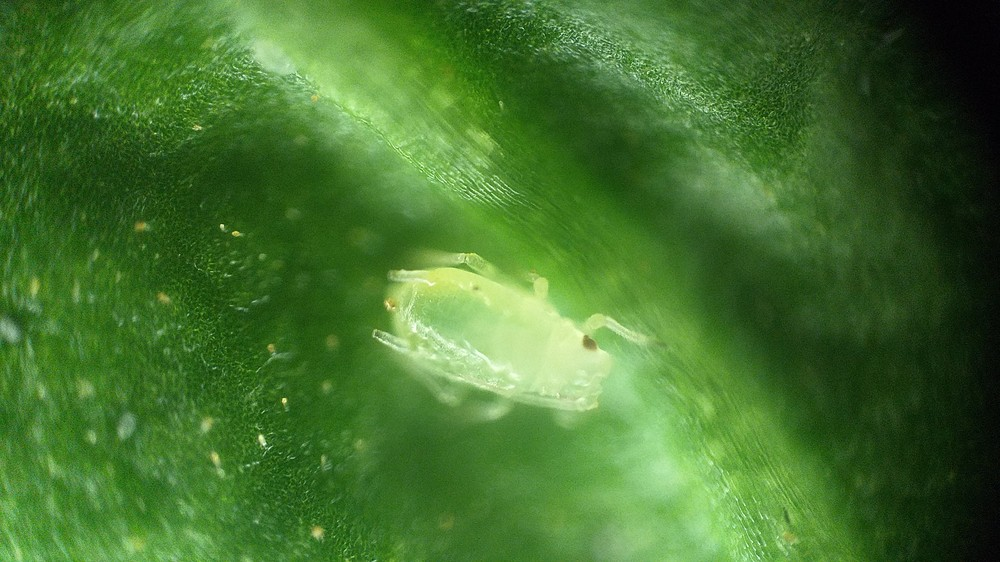Pulgon: (343, 232, 685, 457)
